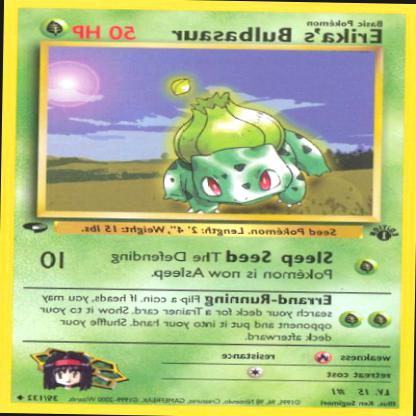Bulbasaur: (158, 88, 336, 214)
